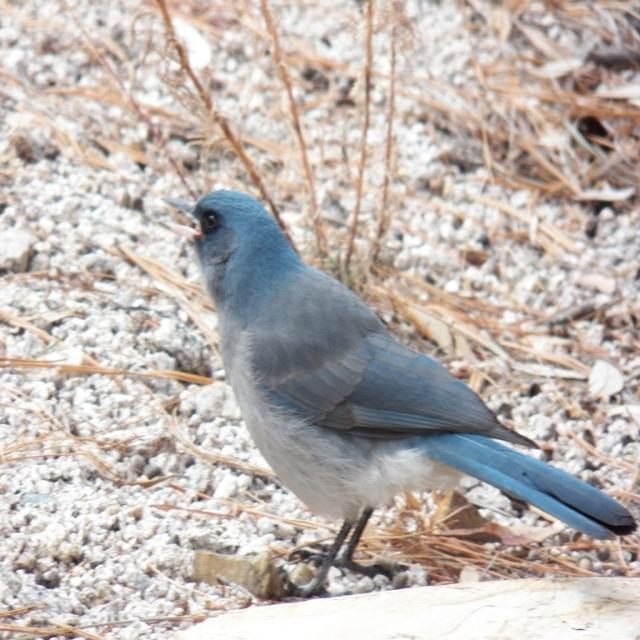bird: (165, 186, 640, 603)
